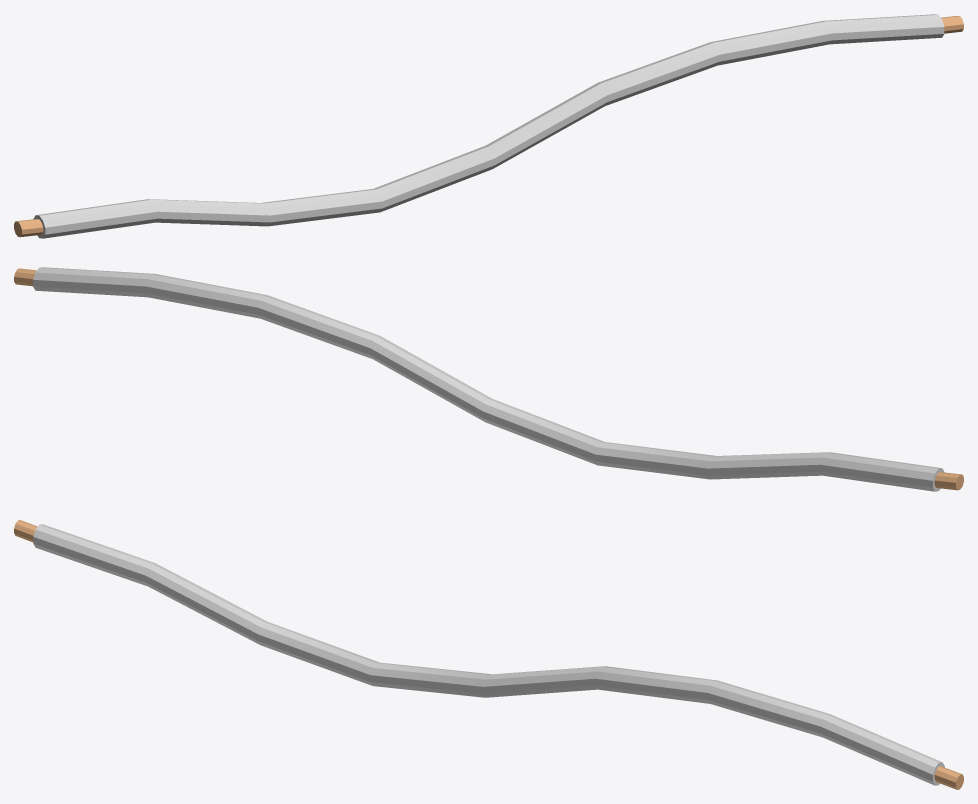
Rendered from Wire_2_White.fbx.
3 views of the same model, one above another, from view 1: azimuth 30°, elevation 25°; view 2: azimuth 150°, elevation 25°; view 3: azimuth 330°, elevation 25° (orthographic).
Visible parts, largest first — view 1: polySurface227; view 2: polySurface227; view 3: polySurface227.
Boxes of the visible parts, <box> form: polySurface227: <box>14,14,963,238</box>; polySurface227: <box>14,267,963,491</box>; polySurface227: <box>14,520,963,789</box>.
Size of the model in its own units: 1.42 by 0.1254 by 0.0308.
